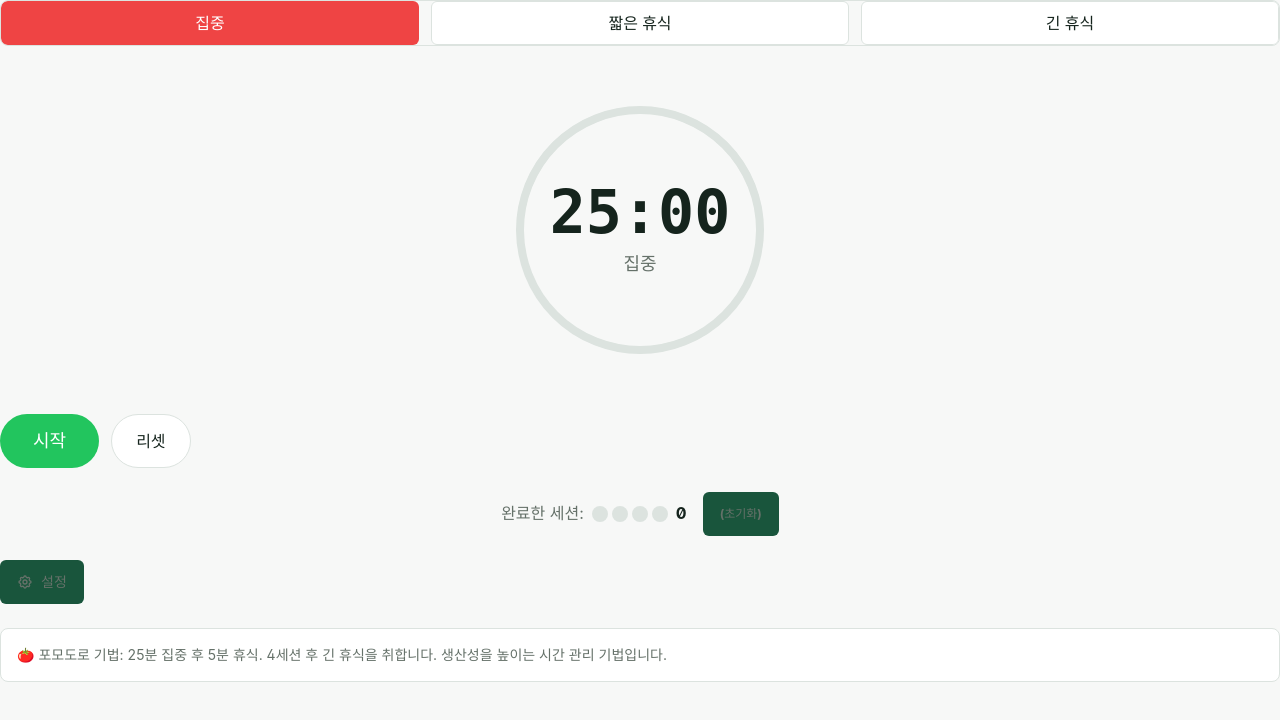
conditionally rendered tool controls › labels every Pomodoro settings field through ToolField
Click the button "설정" at (42, 582), box [0,560,84,604]
(page scrolled)
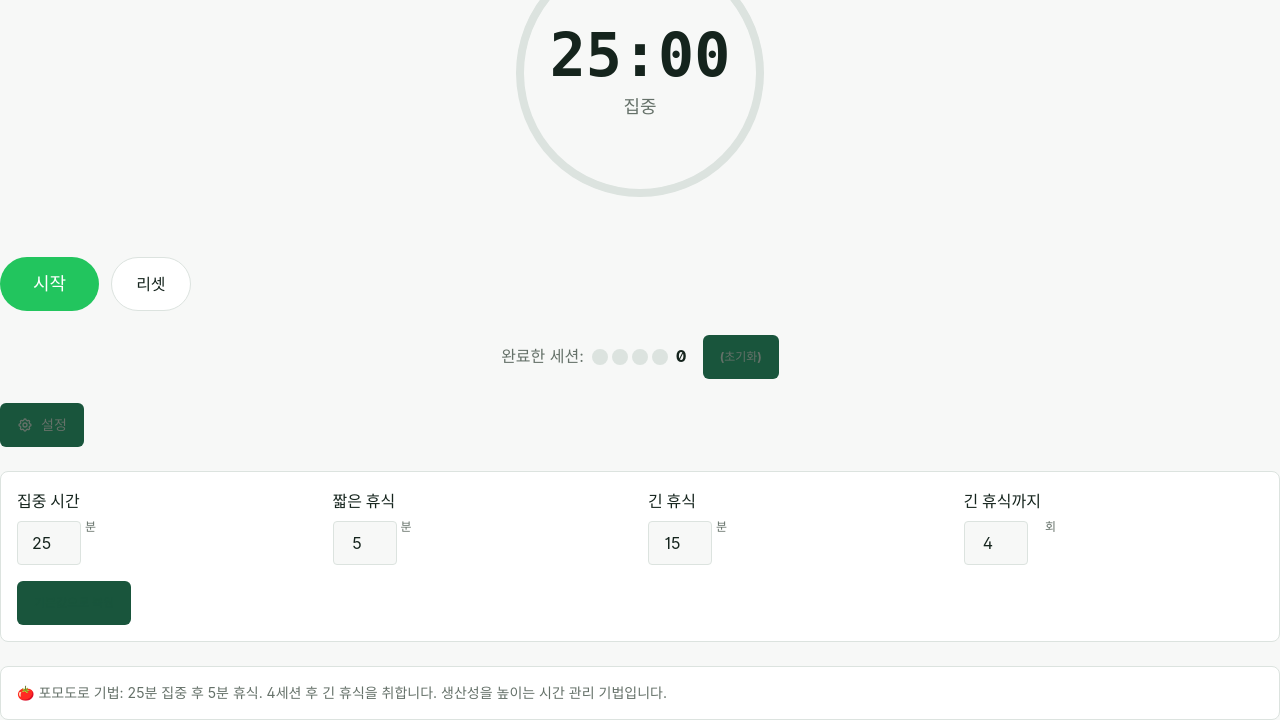
Result: the element labelled "집중 시간" is shown at [17,488,81,565]
Result: the element labelled "짧은 휴식" is shown at [332,488,396,565]
Result: the element labelled "긴 휴식" is shown at [648,488,712,565]
